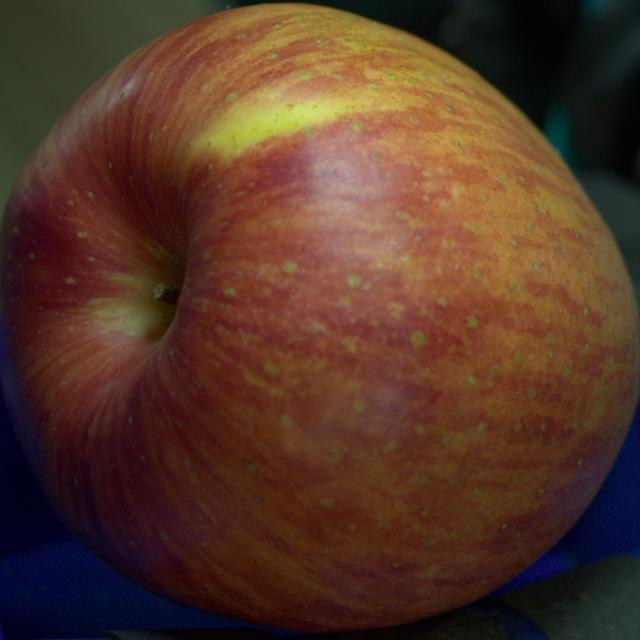apple: (0, 4, 639, 632)
